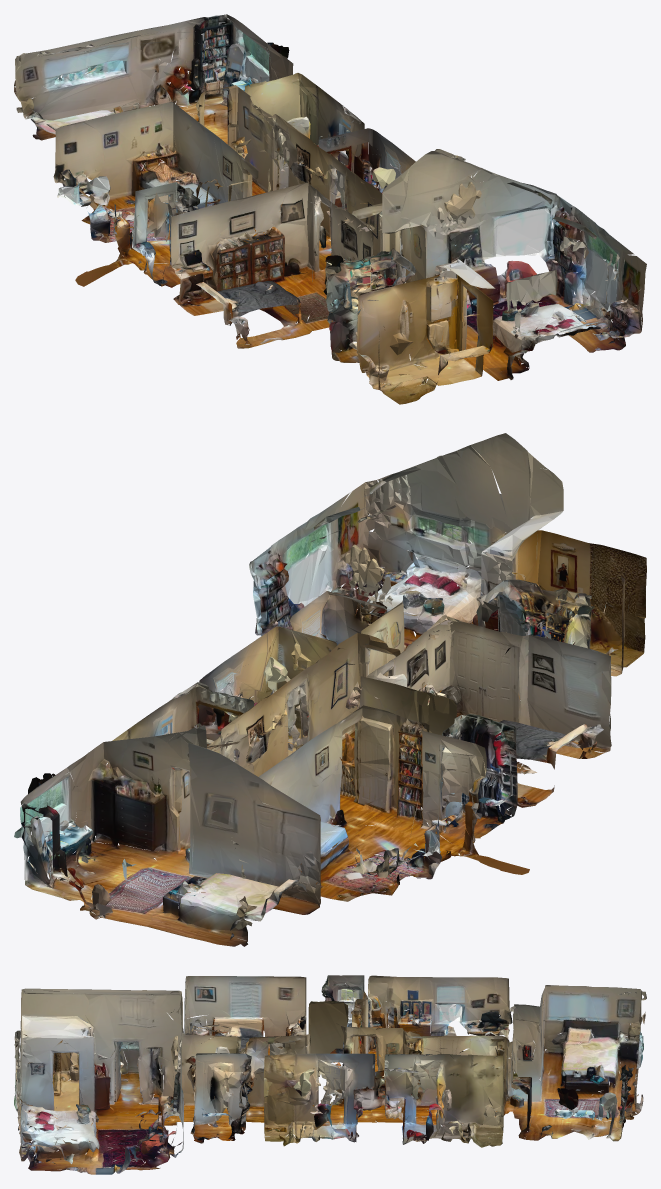
Rendered from casa-optimizada.glb.
The picture shows the model from 3 angles, top to bottom: view 1: azimuth 30°, elevation 25°; view 2: azimuth 150°, elevation 25°; view 3: azimuth 270°, elevation 25°; orthographic projection. The views are drawn at different scales.
Size of the model in its own units: 10.2 by 4.68 by 18.19.
10 materials, 10 textured.
